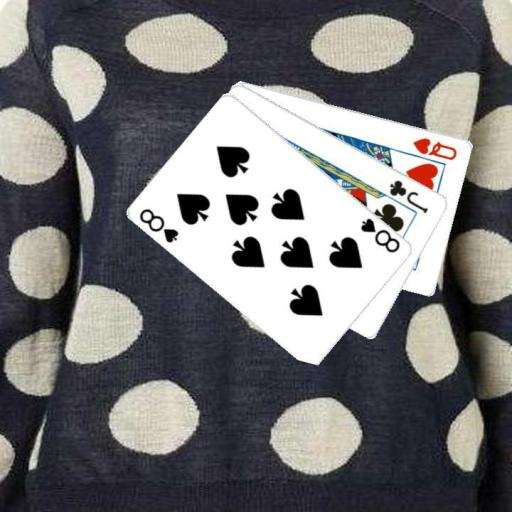8S: (358, 214, 403, 255), (137, 205, 182, 245)
JC: (387, 176, 430, 215)
QH: (410, 134, 459, 161)
